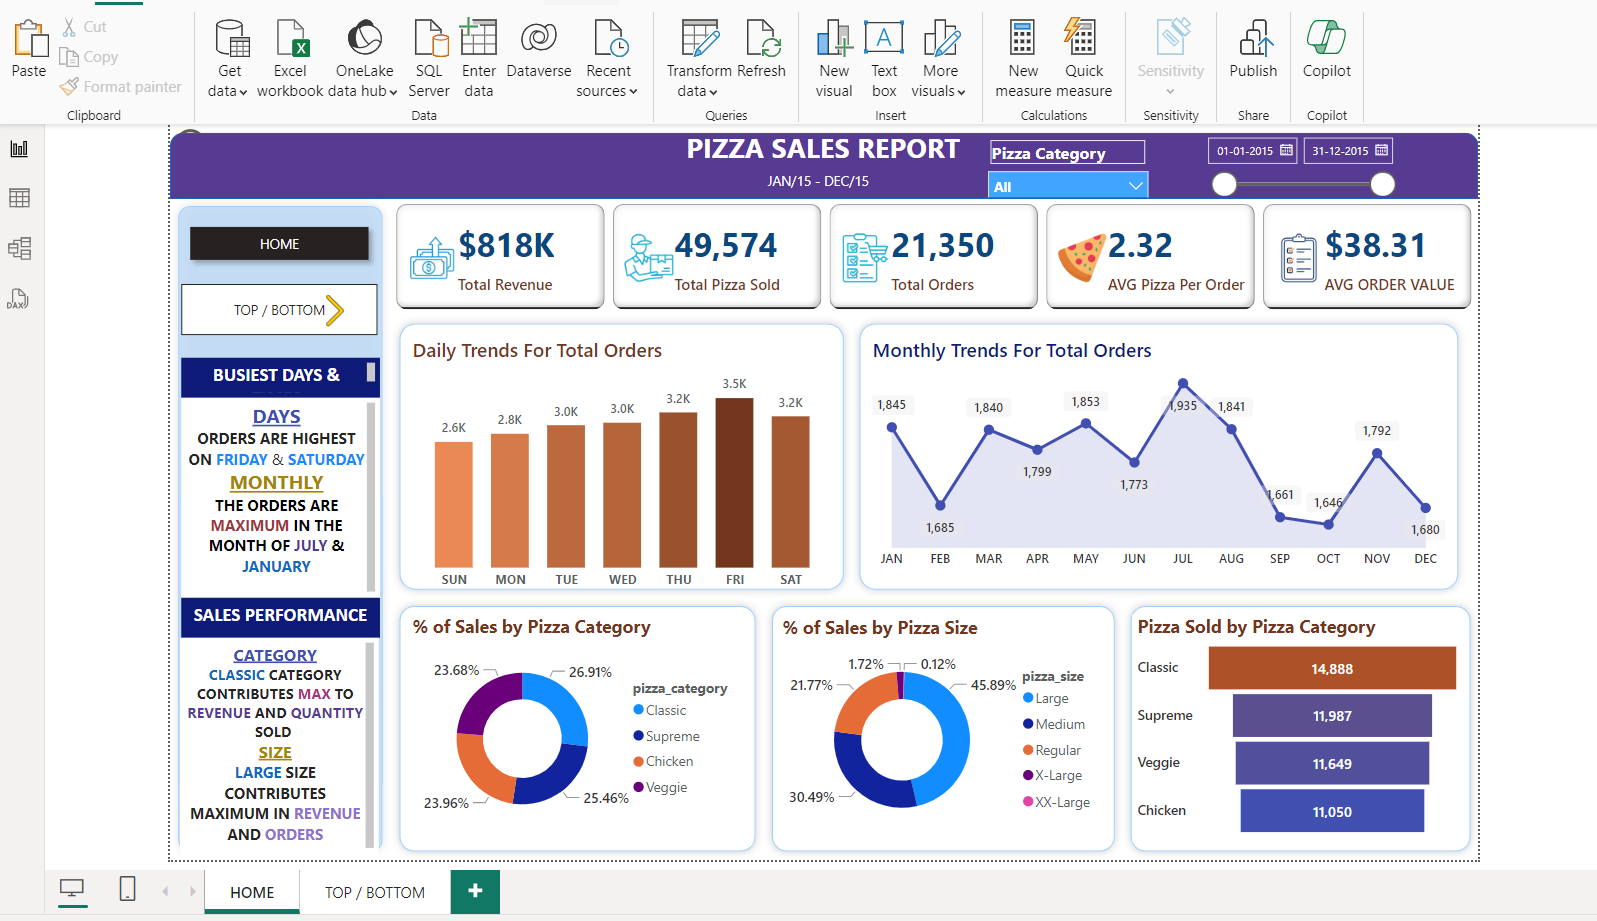

The dashboard page shown, as its layout file describes it:
{"tool":"powerbi","page":{"name":"HOME","canvas":[1280,720],"ordinal":0},"visuals":[{"type":"shape","box":[0,72,216,648],"z":0},{"type":"actionButton","box":[0,0,100,40],"z":1000},{"type":"cardVisual","fields":{"Data":["pizza_sales.Total Revenue","pizza_sales.Total Pizza Sold","pizza_sales.Total Orders","pizza_sales.AVG Pizza Per Order","pizza_sales.AVG ORDER VALUE"]},"box":[216,73.4,1064.2,113.8],"z":2000},{"type":"shape","box":[0,8.3,1280,65],"z":3000},{"type":"textbox","box":[499.7,0,301,47.5],"z":4000},{"type":"textbox","box":[580,41.4,118.6,30],"z":5000},{"type":"shape","box":[216,187.2,450.7,276.5],"z":6000},{"type":"columnChart","title":"Daily Trends For Total Orders","fields":{"Category":["pizza_sales.Order Day"],"Y":["pizza_sales.Total Orders"]},"box":[231.8,207.4,421.9,256.3],"z":7000},{"type":"shape","box":[666.7,187.2,601.9,276.5],"z":8000},{"type":"areaChart","title":"Monthly Trends For Total Orders","fields":{"Category":["pizza_sales.Order Month"],"Y":["pizza_sales.Total Orders"]},"box":[682.6,207.4,570.2,236.2],"z":9000},{"type":"shape","box":[216,463.7,364.3,256.3],"z":10000},{"type":"shape","box":[580.3,463.7,351.4,256.3],"z":11000},{"type":"shape","box":[931.7,463.7,348.5,256.3],"z":12000},{"type":"donutChart","title":"% of Sales by Pizza Category","fields":{"Category":["pizza_sales.pizza_category"],"Y":["pizza_sales.Total Revenue"]},"box":[231.8,479.5,334.1,221.8],"z":13000},{"type":"donutChart","title":"% of Sales by Pizza Size","fields":{"Y":["pizza_sales.Total Revenue"],"Category":["pizza_sales.pizza_size"]},"box":[594.7,481,324,221.8],"z":14000},{"type":"funnel","title":"Pizza Sold by Pizza Category","fields":{"Category":["pizza_sales.pizza_category"],"Y":["pizza_sales.Total Pizza Sold"]},"box":[941.8,479.5,326.9,223.2],"z":15000},{"type":"textbox","box":[11.5,229,194.4,38.9],"z":16000},{"type":"textbox","box":[11.5,267.8,194.4,195.8],"z":17000},{"type":"textbox","box":[11.5,463.7,194.4,38.9],"z":18000},{"type":"textbox","box":[10.1,502.6,194.4,217.4],"z":19000},{"type":"slicer","fields":{"Values":["pizza_sales.pizza_category"]},"box":[790.6,11.5,177.1,60.5],"z":20000},{"type":"slicer","fields":{"Values":["pizza_sales.order_date"]},"box":[1008,8.6,194.4,61.9],"z":21000},{"type":"pageNavigator","box":[11.5,92.2,193,50.4],"z":22000},{"type":"pageNavigator","box":[11.5,157,193,50.4],"z":23000},{"type":"image","box":[141.1,162.7,41.8,40.3],"z":24000}]}

Visuals, with their boxes on the page's 1280x720 design canvas (x1, y1, x2, y2). These are canvas units, not pixel positions in the 1597x921 screenshot, which may show the page scaled, cropped or inside an application window:
shape: (left=0, top=72, right=216, bottom=720)
actionButton: (left=0, top=0, right=100, bottom=40)
cardVisual - pizza_sales.Total Revenue x pizza_sales.Total Pizza Sold: (left=216, top=73, right=1280, bottom=187)
shape: (left=0, top=8, right=1280, bottom=73)
textbox: (left=500, top=0, right=801, bottom=48)
textbox: (left=580, top=41, right=699, bottom=71)
shape: (left=216, top=187, right=667, bottom=464)
"Daily Trends For Total Orders" columnChart: (left=232, top=207, right=654, bottom=464)
shape: (left=667, top=187, right=1269, bottom=464)
"Monthly Trends For Total Orders" areaChart: (left=683, top=207, right=1253, bottom=444)
shape: (left=216, top=464, right=580, bottom=720)
shape: (left=580, top=464, right=932, bottom=720)
shape: (left=932, top=464, right=1280, bottom=720)
"% of Sales by Pizza Category" donutChart: (left=232, top=480, right=566, bottom=701)
"% of Sales by Pizza Size" donutChart: (left=595, top=481, right=919, bottom=703)
"Pizza Sold by Pizza Category" funnel: (left=942, top=480, right=1269, bottom=703)
textbox: (left=12, top=229, right=206, bottom=268)
textbox: (left=12, top=268, right=206, bottom=464)
textbox: (left=12, top=464, right=206, bottom=503)
textbox: (left=10, top=503, right=204, bottom=720)
slicer - pizza_sales.pizza_category: (left=791, top=12, right=968, bottom=72)
slicer - pizza_sales.order_date: (left=1008, top=9, right=1202, bottom=70)
pageNavigator: (left=12, top=92, right=204, bottom=143)
pageNavigator: (left=12, top=157, right=204, bottom=207)
image: (left=141, top=163, right=183, bottom=203)
